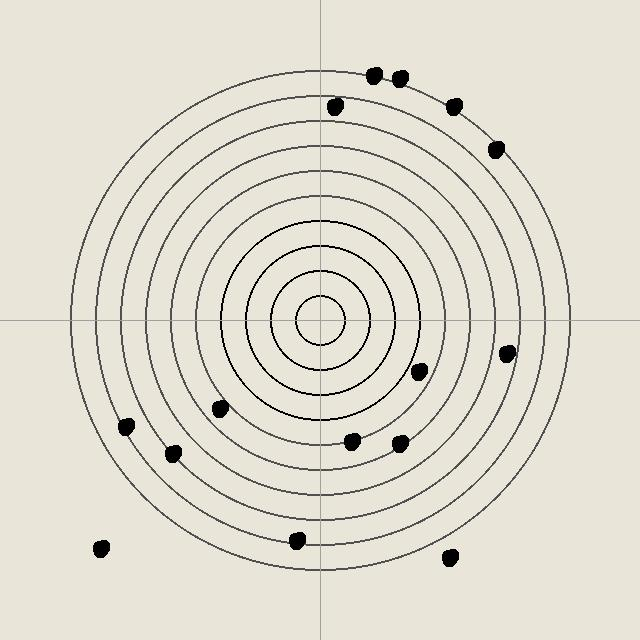random_scatter: (90, 538, 110, 558), (286, 530, 306, 550), (363, 65, 383, 85), (324, 96, 344, 116), (115, 416, 135, 436), (443, 96, 463, 116), (341, 431, 361, 451), (439, 547, 459, 567), (389, 433, 409, 453), (209, 398, 229, 418), (496, 343, 516, 363), (485, 139, 505, 159), (162, 443, 182, 463), (408, 361, 428, 381), (389, 68, 409, 88)
